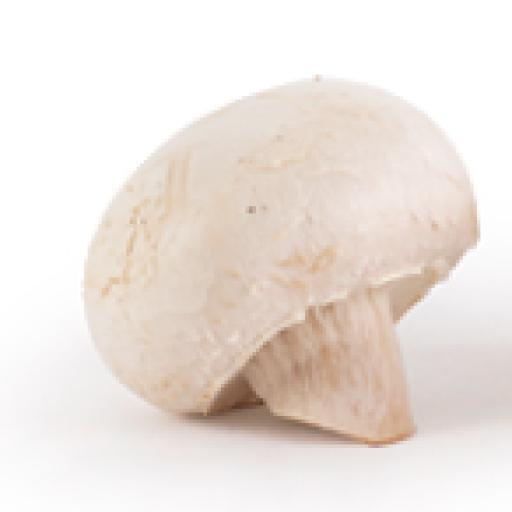mushroom: (84, 69, 486, 456)
